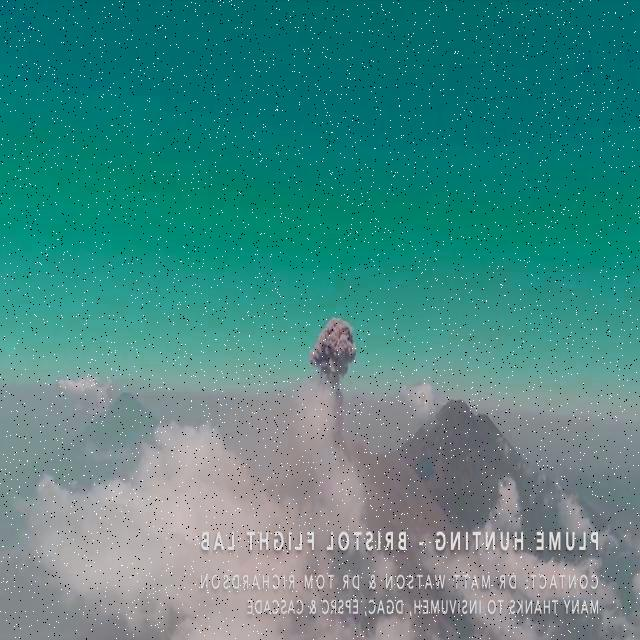Plume: (309, 310, 359, 388)
